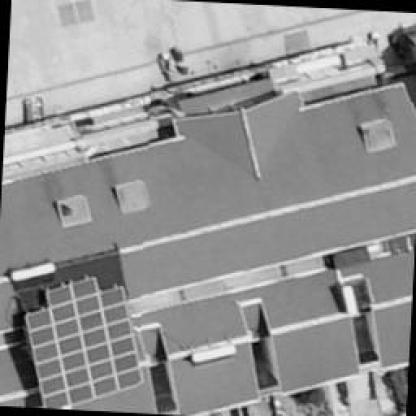solar-pv-panel: (24, 274, 143, 408)
